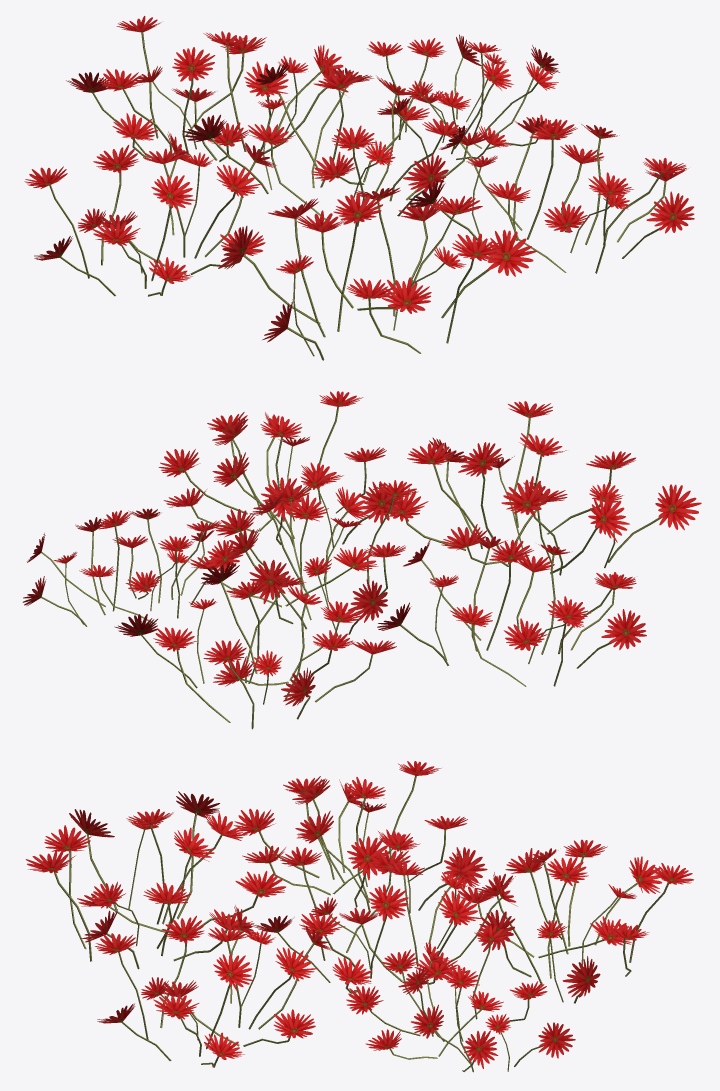
Rendered from PW_FOC_ClusterDaisyRed_Lod_0.fbx.
3 views of the same model, one above another, from view 1: azimuth 30°, elevation 25°; view 2: azimuth 150°, elevation 25°; view 3: azimuth 270°, elevation 25° (orthographic). The views are drawn at different scales.
Parts seen in each view (by area): view 1: PW_FOC_ClusterDaisyRed_Lod_0; view 2: PW_FOC_ClusterDaisyRed_Lod_0; view 3: PW_FOC_ClusterDaisyRed_Lod_0.
Boxes of the visible parts, left/top/right/bottom form: PW_FOC_ClusterDaisyRed_Lod_0: left=24, top=16, right=694, bottom=360; PW_FOC_ClusterDaisyRed_Lod_0: left=22, top=391, right=701, bottom=729; PW_FOC_ClusterDaisyRed_Lod_0: left=25, top=761, right=693, bottom=1072.
Size of the model in its own units: 1.76 by 0.3932 by 1.87.
